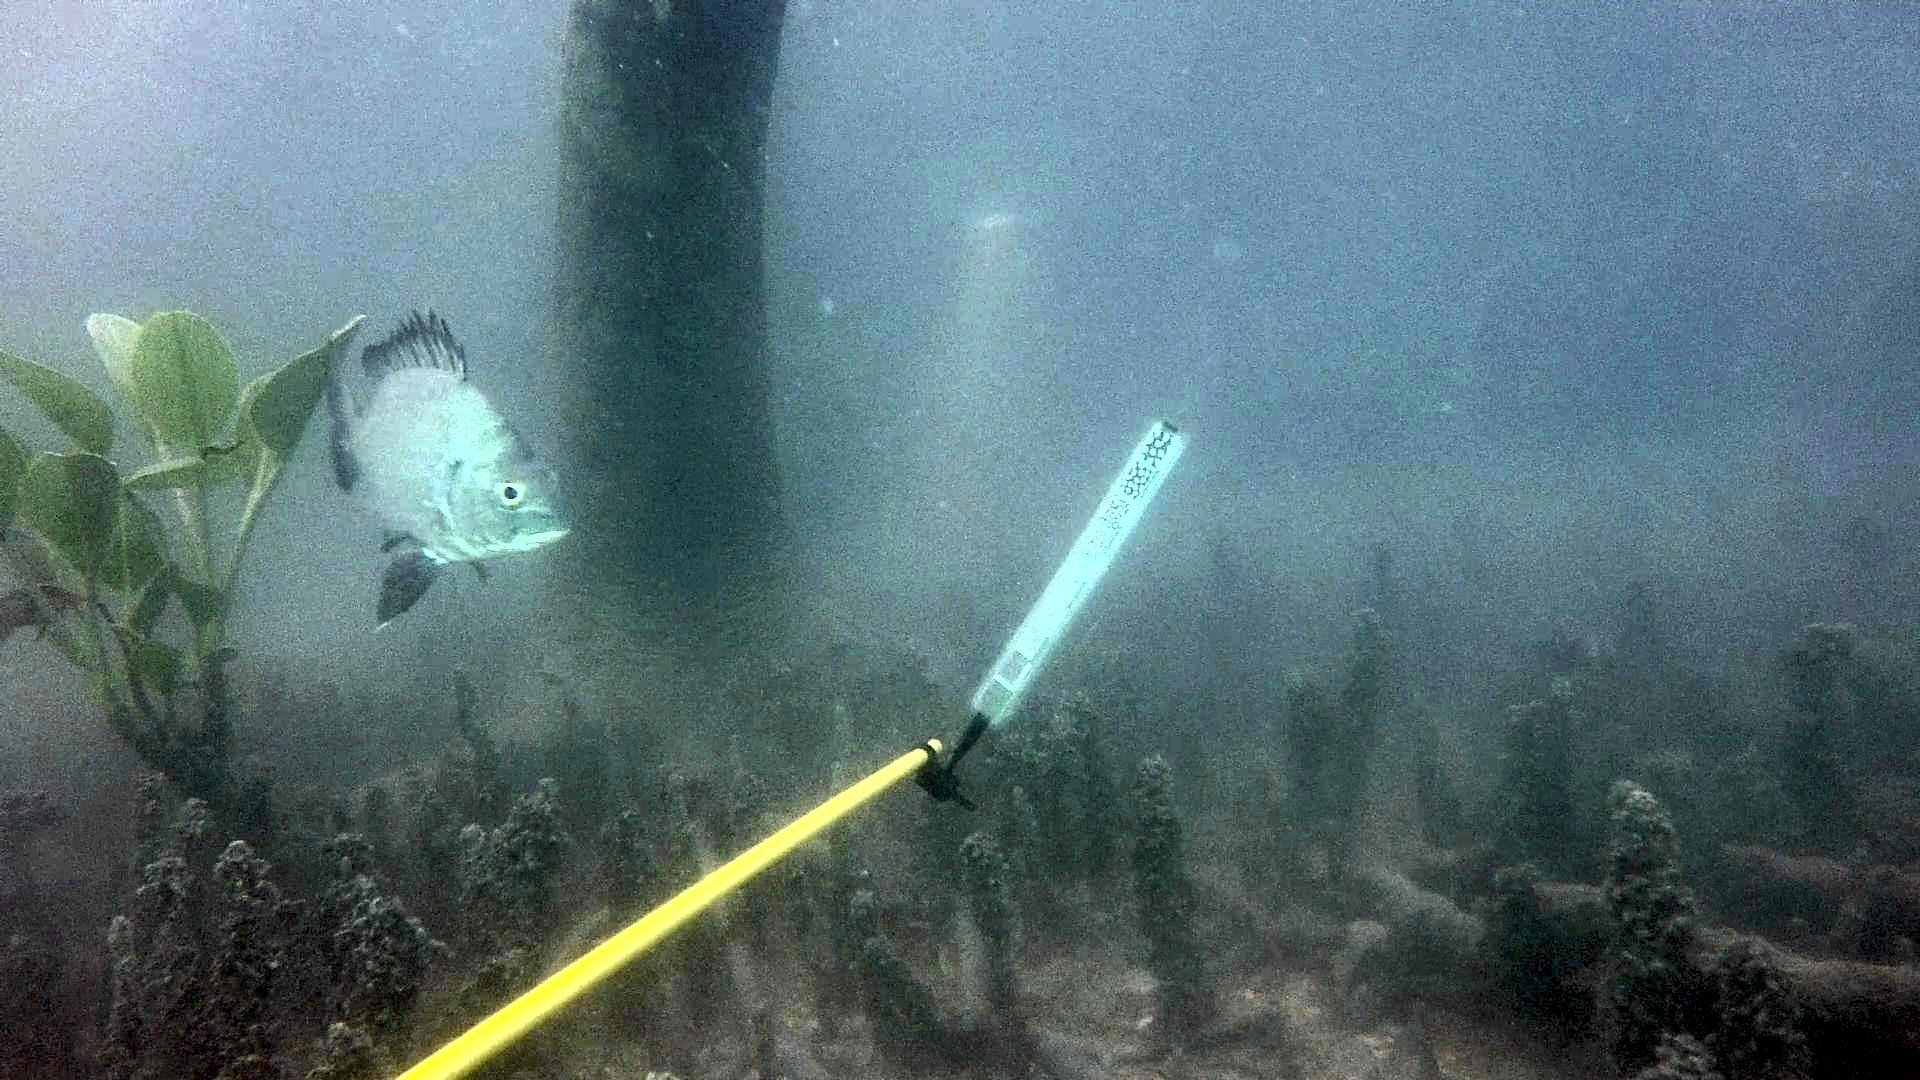acanthopagrus palmaris: (322, 305, 583, 636)
